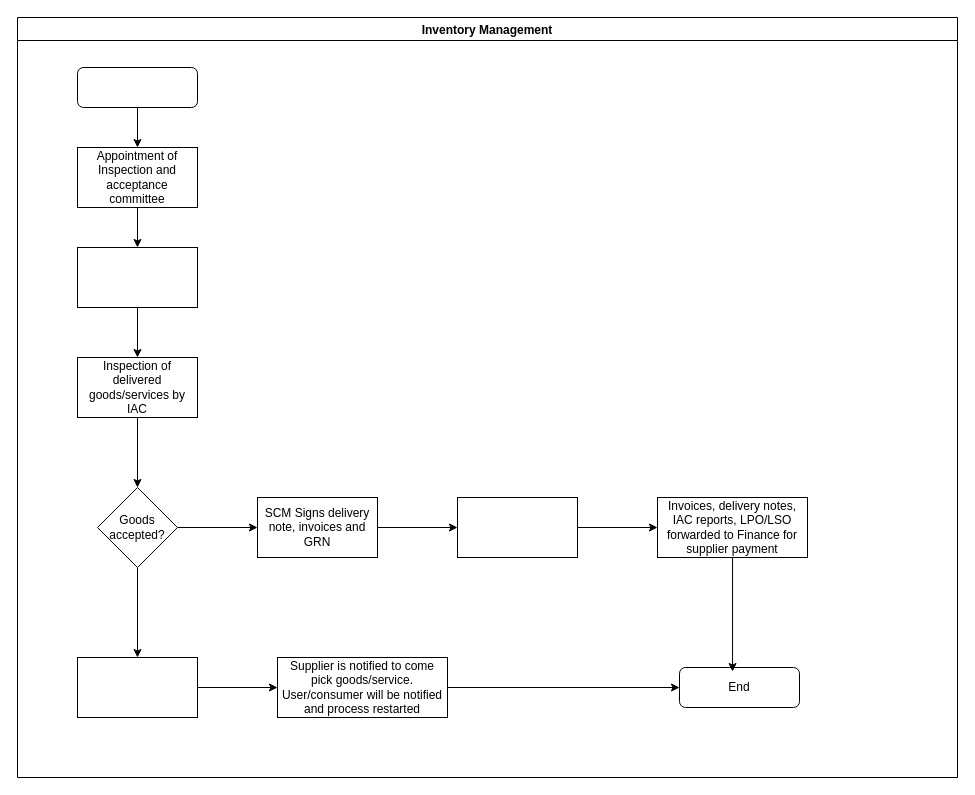
The diagram is 975 pixels wide and 795 high, and some of its shapes have lost their labels. The shapes that lost their labels are listed below. From the top down, each one's centre as x and y in pixels, then its label:
At point (137, 87): "Start".
At point (137, 277): "Receipt of good and services by SCM".
At point (517, 527): "Accepted goods are received in the store and stock control ledger updated".
At point (137, 687): "SCM signs goods return note, IAC documents reason for rejection.".
